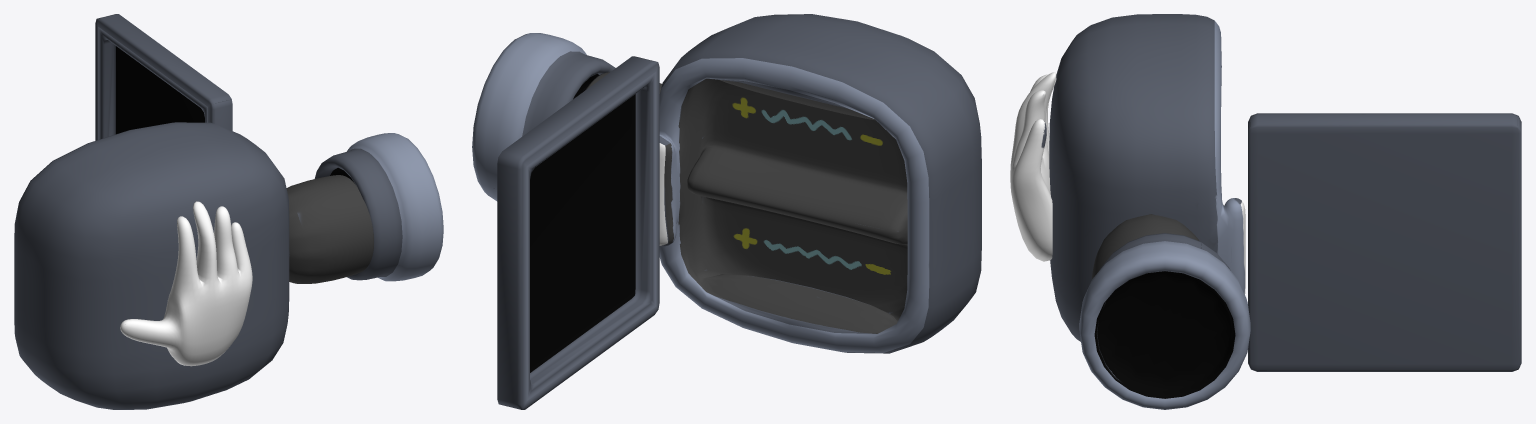
File: CameraVRJAMFINAL.fbx
3 views of the same model, side by side, from view 1: azimuth 30°, elevation 25°; view 2: azimuth 150°, elevation 25°; view 3: azimuth 270°, elevation 25° (orthographic). The views are drawn at different scales.
Parts seen in each view (by area): view 1: Cam, Lens, Screen; view 2: Cam, Screen, Lens; view 3: Screen, Cam, Lens.
Part boxes in pixels (x1,y1,x2,y2): Cam: [14, 122, 373, 409]; Lens: [314, 133, 443, 281]; Screen: [95, 14, 232, 140]; Cam: [585, 14, 981, 353]; Screen: [497, 56, 659, 409]; Lens: [472, 33, 615, 201]; Screen: [1248, 113, 1521, 371]; Cam: [1010, 14, 1245, 341]; Lens: [1079, 233, 1250, 409].
Size of the model in its own units: 41.6 by 25.56 by 42.02.
3 materials, 3 textured.
